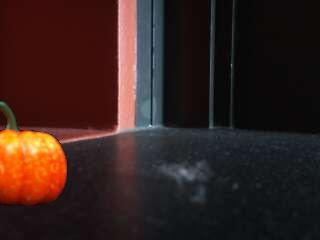Pumpkin: (0, 98, 68, 207)
